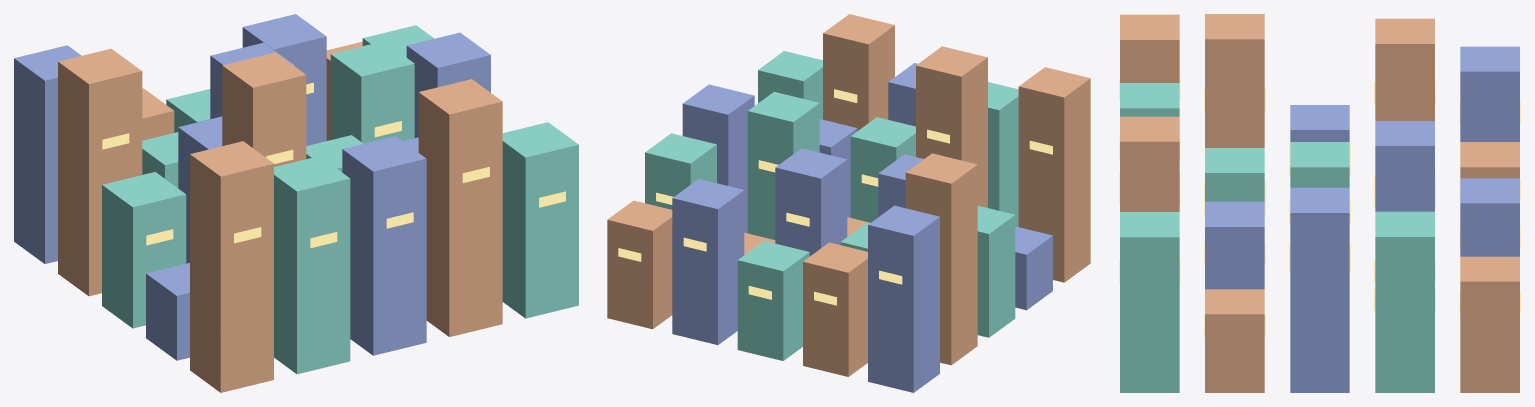
The model's file is kota.glb.
3 views of the same model, side by side, from view 1: azimuth 30°, elevation 25°; view 2: azimuth 150°, elevation 25°; view 3: azimuth 270°, elevation 25° (orthographic). The views are drawn at different scales.
Parts seen in each view (by area): view 1: B04, B34, B24, B14, B01, B44, B02, B00, B13, B32, B30, B42 (+9 smaller); view 2: B04, B00, B30, B01, B13, B10, B40, B20, B34, B21, B32, B42 (+10 smaller); view 3: B42, B41, B44, B40, B13, B43, B01, B00, B34, B21, B33, B30 (+6 smaller).
Part boxes in pixels (left/top/right/bottom): B04: left=190, top=141, right=273, bottom=392; B34: left=418, top=79, right=502, bottom=336; B24: left=342, top=136, right=426, bottom=355; B14: left=274, top=156, right=350, bottom=374; B01: left=58, top=48, right=142, bottom=296; B44: left=502, top=122, right=578, bottom=318; B02: left=102, top=172, right=186, bottom=328; B00: left=14, top=45, right=81, bottom=263; B13: left=222, top=52, right=306, bottom=166; B32: left=330, top=41, right=414, bottom=143; B30: left=242, top=14, right=326, bottom=145; B42: left=406, top=32, right=490, bottom=137; B04: left=1018, top=67, right=1090, bottom=282; B00: left=868, top=205, right=939, bottom=392; B30: left=672, top=179, right=744, bottom=344; B01: left=905, top=153, right=977, bottom=365; B13: left=916, top=46, right=987, bottom=207; B10: left=803, top=242, right=867, bottom=376; B40: left=607, top=200, right=672, bottom=329; B20: left=737, top=241, right=809, bottom=360; B34: left=823, top=14, right=894, bottom=130; B21: left=775, top=148, right=847, bottom=256; B32: left=747, top=91, right=819, bottom=239; B42: left=682, top=84, right=754, bottom=233; B42: left=1289, top=187, right=1350, bottom=392; B41: left=1374, top=211, right=1435, bottom=392; B44: left=1119, top=212, right=1180, bottom=392; B40: left=1459, top=256, right=1520, bottom=392; B13: left=1204, top=14, right=1265, bottom=147; B43: left=1204, top=289, right=1265, bottom=392; B01: left=1374, top=18, right=1435, bottom=120; B00: left=1459, top=46, right=1520, bottom=141; B34: left=1119, top=116, right=1180, bottom=211; B21: left=1374, top=121, right=1435, bottom=211; B33: left=1204, top=201, right=1265, bottom=289; B30: left=1459, top=178, right=1520, bottom=256.
Bounding box in the file's own units: 4.7 × 3.19 × 4.72.
